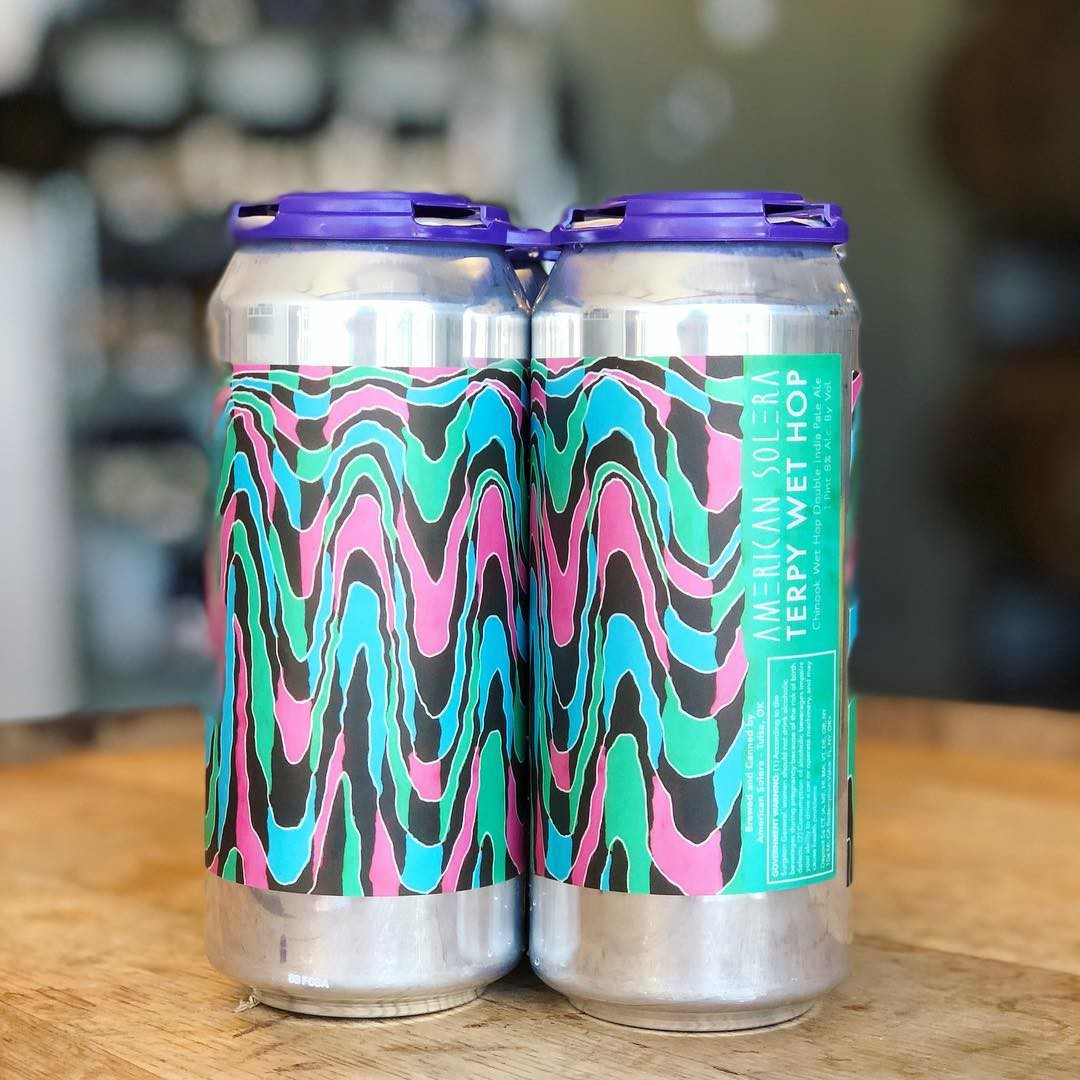beer can: (529, 191, 860, 1034), (207, 193, 523, 1024)
